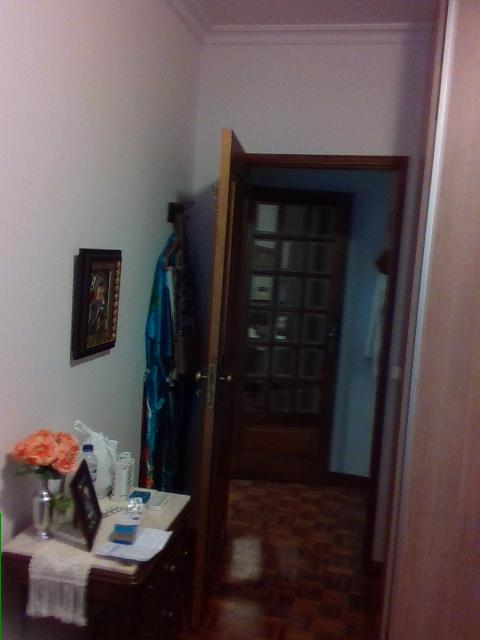open_door: (197, 151, 412, 566)
